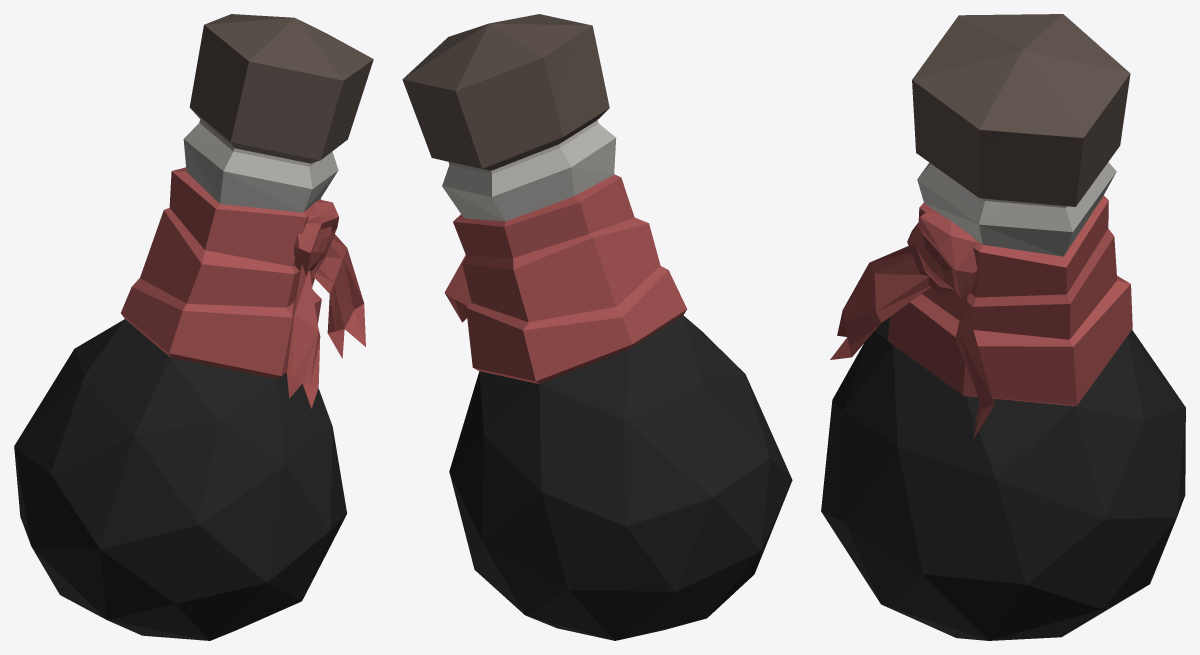
File: causticInk.fbx
3 renders of one model, left to right at view 1: azimuth 30°, elevation 25°; view 2: azimuth 150°, elevation 25°; view 3: azimuth 270°, elevation 25°, orthographic. The views are drawn at different scales.
Parts seen in each view (by area): view 1: causticInk; view 2: causticInk; view 3: causticInk.
Boxes of the visible parts, <box> form: causticInk: <box>14,14,373,640</box>; causticInk: <box>402,14,792,640</box>; causticInk: <box>821,14,1185,640</box>.
Bounding box in the file's own units: 0.9957 × 1.66 × 0.8624.
Materials: 1 (1 with a texture image).
